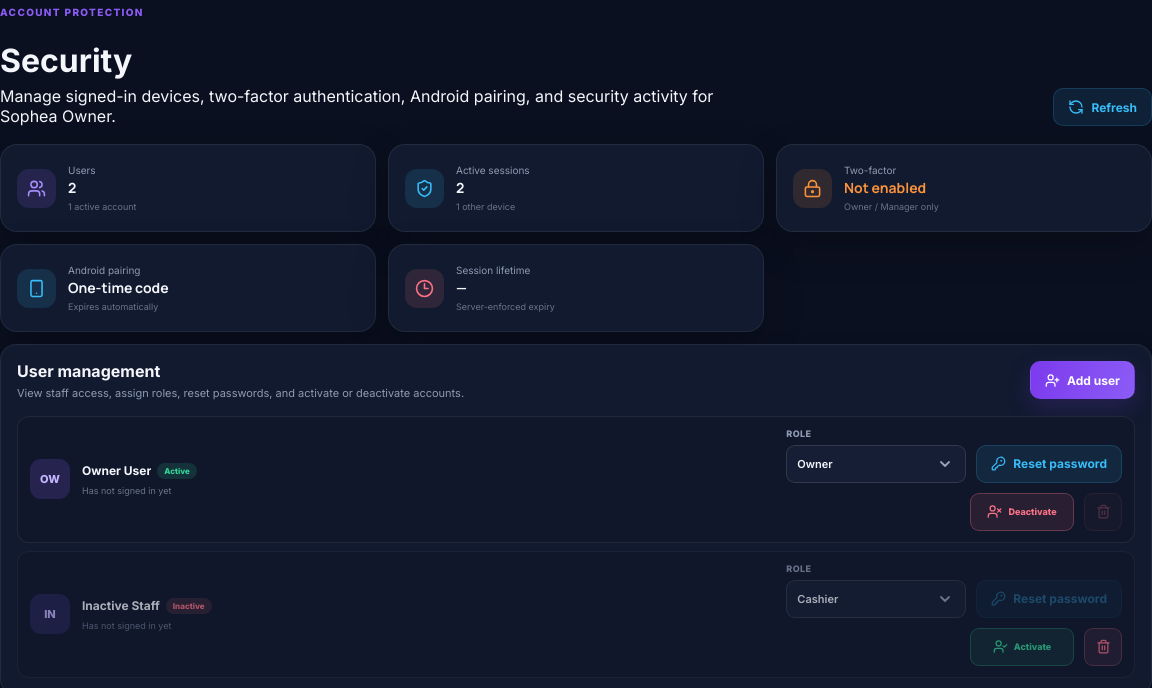
Test: SecurityWorkspacePage delete and revocation flows › displays error and does not show toast when staff deletion fails
This screenshot has width=1152, height=688.
Expected: the text "Inactive Staff" is shown, [82,598,160,613]
What coordinates should you click on to do the following:
click the button named "Delete Inactive Staff"
I would click on:
 (1103, 647)
Its box is [1084,628,1122,666].
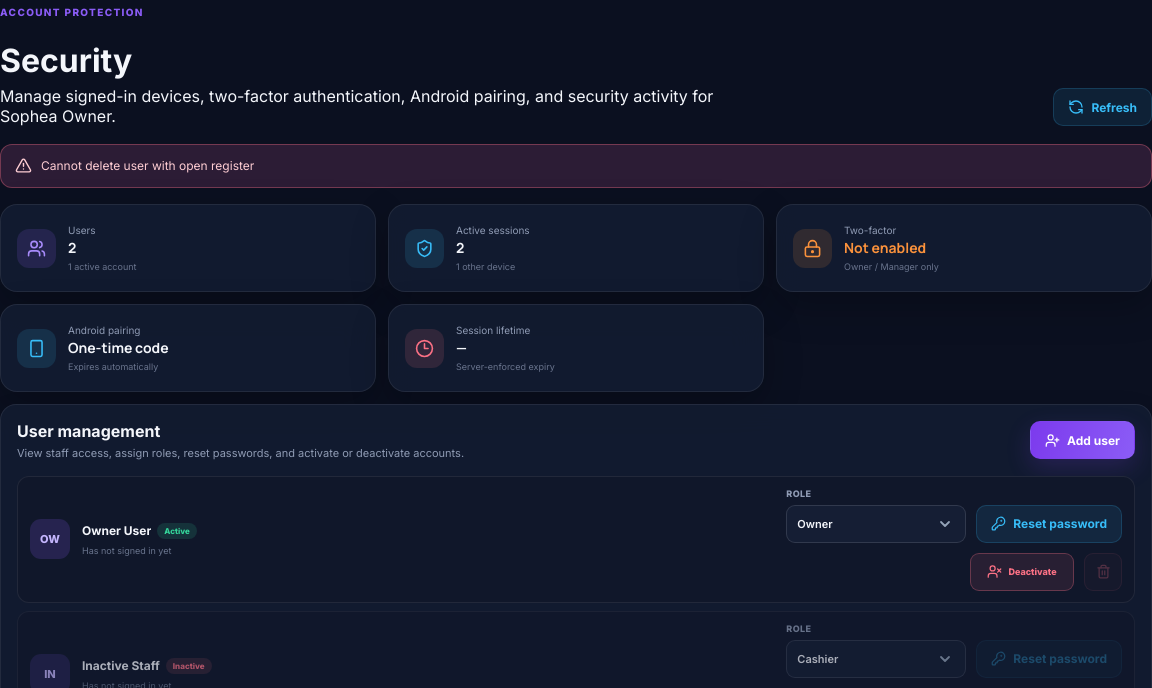
Expected: the text "Cannot delete user with open register" is shown, [41,157,254,175]
